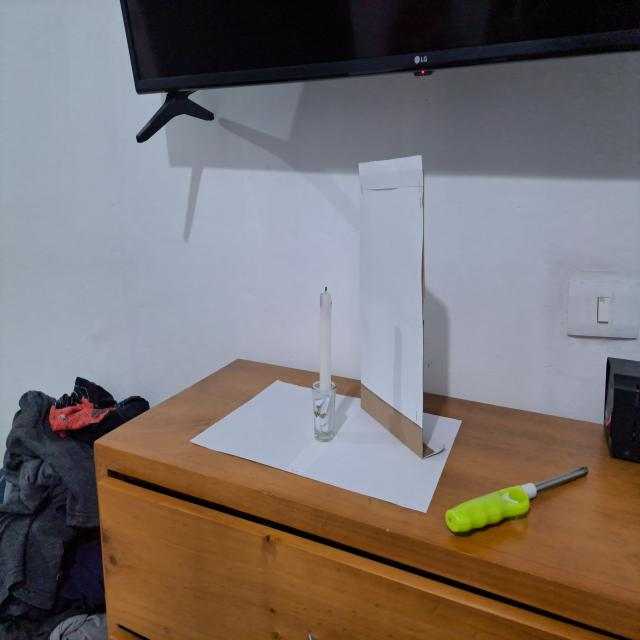candle: (312, 280, 344, 446)
wall: (355, 155, 450, 460)
